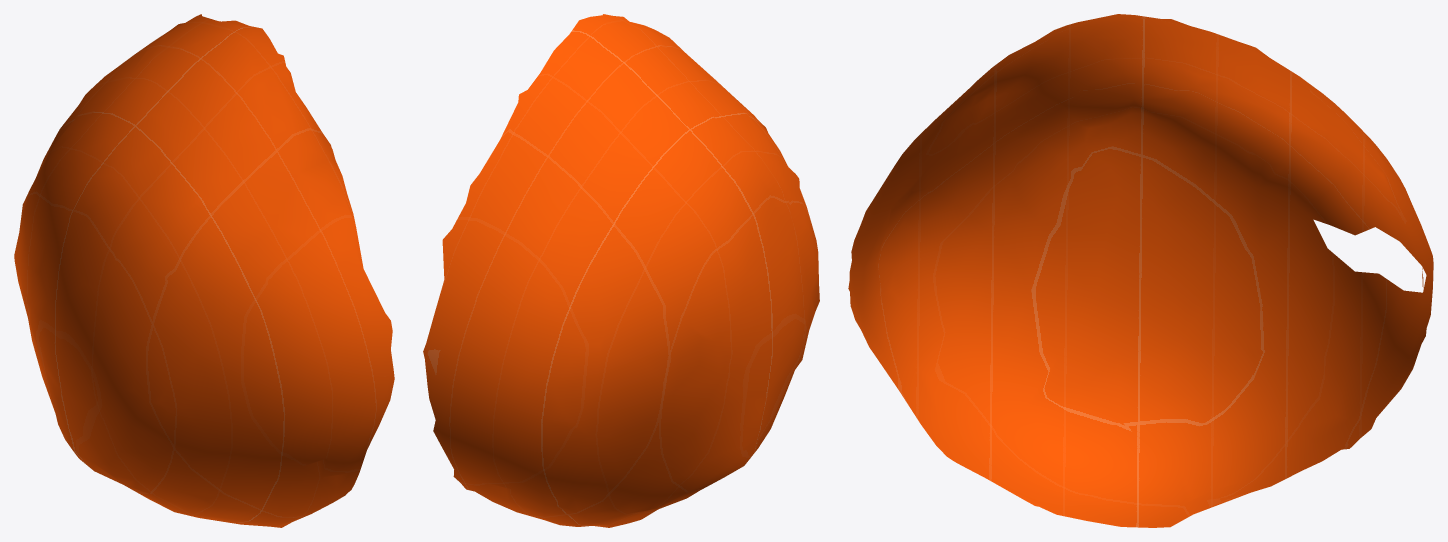
3 views of the same model, side by side, from view 1: azimuth 30°, elevation 25°; view 2: azimuth 150°, elevation 25°; view 3: azimuth 270°, elevation 25° (orthographic). The views are drawn at different scales.
Visible parts, largest first — view 1: Renderer Node; view 2: Renderer Node; view 3: Renderer Node.
Part boxes in pixels (box(x1,y1,x2,y2)): Renderer Node: box(14, 14, 394, 527); Renderer Node: box(423, 14, 819, 527); Renderer Node: box(848, 14, 1433, 527).
Size of the model in its own units: 0.2956 by 0.6203 by 0.6392.
1 material, 1 textured.
